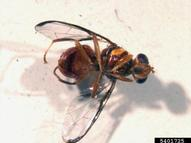Fruit fly: (32, 23, 161, 127)
